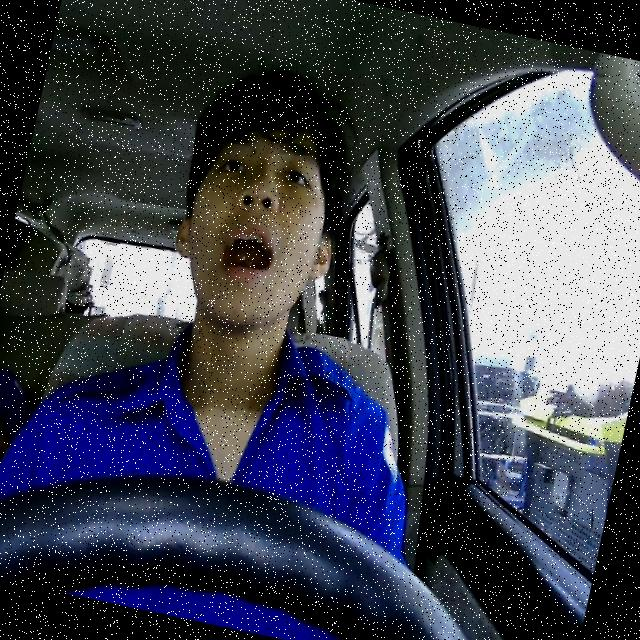yarning: (158, 99, 355, 342)
